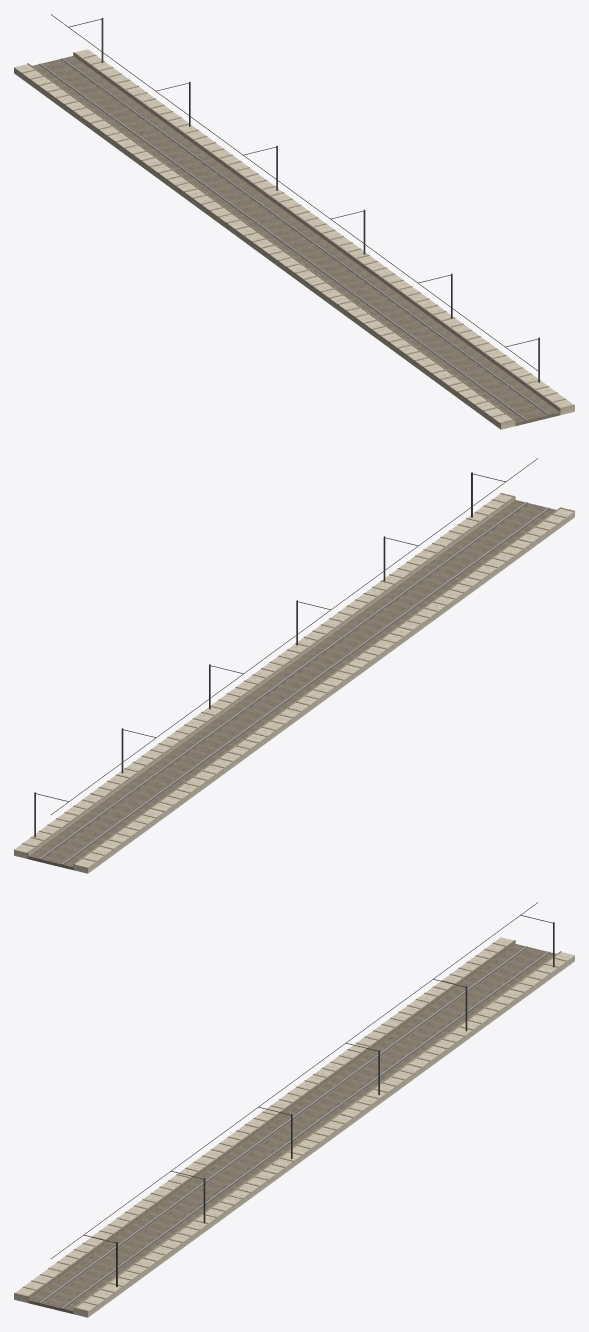
Rendered from tramStreet.gltf.
The picture shows the model from 3 angles, top to bottom: view 1: azimuth 30°, elevation 25°; view 2: azimuth 150°, elevation 25°; view 3: azimuth 330°, elevation 25°; orthographic projection.
Visible parts, largest first — view 1: tramStreet-calcada, tramStreet-lisbon-pavement, tramStreet-step-edge, tramStreet-rail-groove, tramStreet-rail-steel, tramStreet-wire; view 2: tramStreet-calcada, tramStreet-lisbon-pavement, tramStreet-step-edge, tramStreet-rail-groove, tramStreet-rail-steel, tramStreet-wire; view 3: tramStreet-calcada, tramStreet-lisbon-pavement, tramStreet-step-edge, tramStreet-rail-groove, tramStreet-rail-steel, tramStreet-wire.
Boxes of the visible parts, left/top/right/bottom form: tramStreet-calcada: left=32, top=56, right=560, bottom=425; tramStreet-lisbon-pavement: left=14, top=49, right=574, bottom=429; tramStreet-step-edge: left=21, top=52, right=574, bottom=425; tramStreet-rail-groove: left=39, top=58, right=550, bottom=420; tramStreet-rail-steel: left=39, top=58, right=549, bottom=420; tramStreet-wire: left=51, top=14, right=539, bottom=382; tramStreet-calcada: left=28, top=500, right=555, bottom=869; tramStreet-lisbon-pavement: left=14, top=494, right=574, bottom=873; tramStreet-step-edge: left=22, top=493, right=574, bottom=870; tramStreet-rail-groove: left=38, top=502, right=549, bottom=864; tramStreet-rail-steel: left=39, top=502, right=549, bottom=864; tramStreet-wire: left=34, top=458, right=537, bottom=837; tramStreet-calcada: left=28, top=944, right=556, bottom=1313; tramStreet-lisbon-pavement: left=14, top=937, right=574, bottom=1317; tramStreet-step-edge: left=14, top=940, right=567, bottom=1311; tramStreet-rail-groove: left=38, top=946, right=549, bottom=1308; tramStreet-rail-steel: left=39, top=946, right=549, bottom=1308; tramStreet-wire: left=51, top=902, right=554, bottom=1286.
Bounding box in the file's own units: 13.2 × 8.7 × 150.
6 materials, 3 textured.
